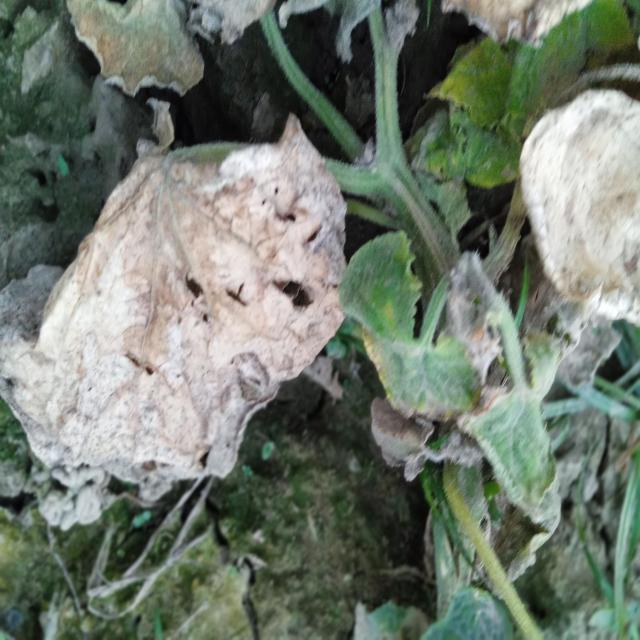cucumber_bacterial: (3, 135, 360, 520), (434, 342, 636, 550), (513, 83, 640, 342), (48, 8, 243, 116)
